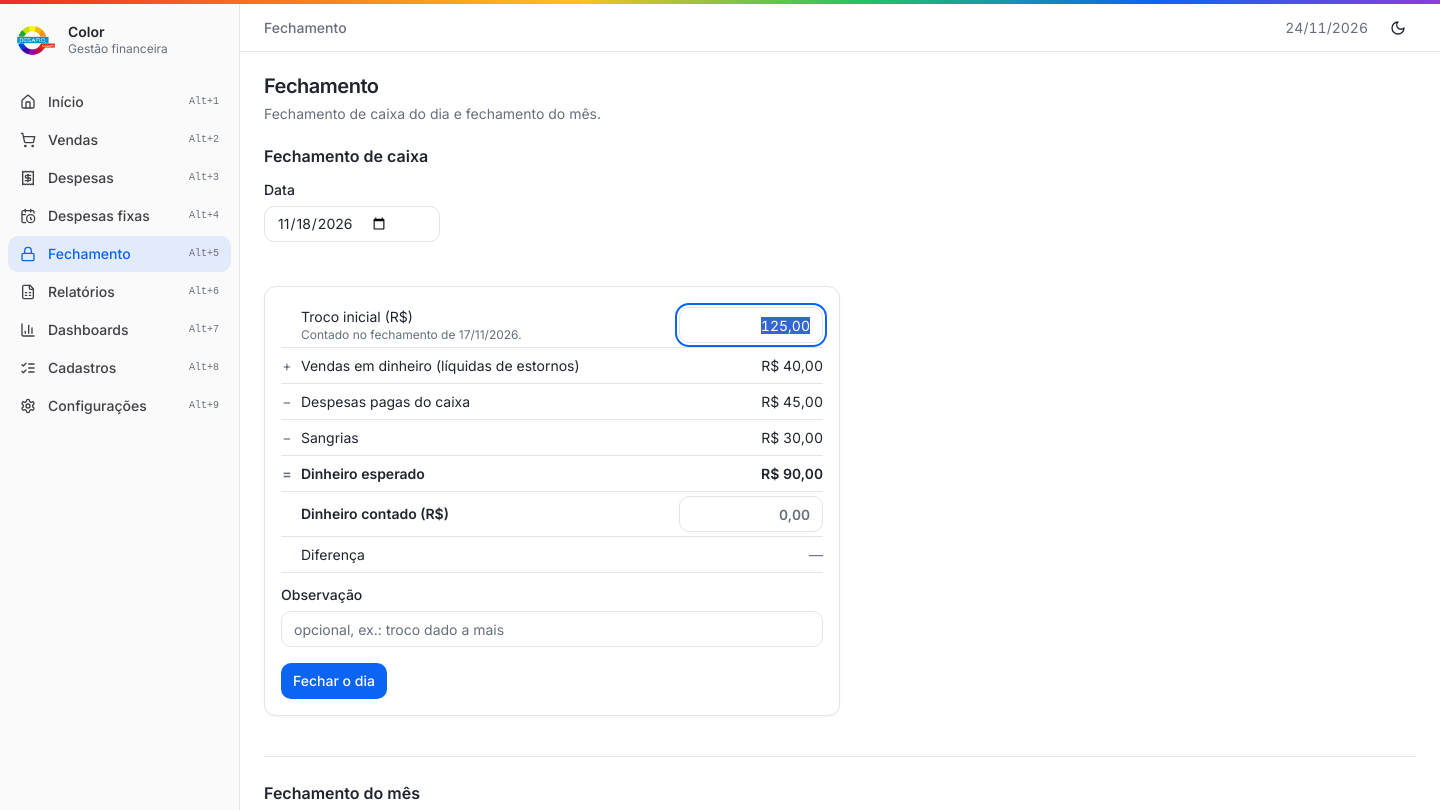
FR-08: close the day (Fechamento page) › FR-08: Esc leaves the confirmation and returns to the counted cash
Expected: the form named "Fechar o dia" is shown, [281,303,823,699]
Type "85,00" into the field labelled "Dinheiro contado (R$)" at point(751, 514), box [679,496,823,532]
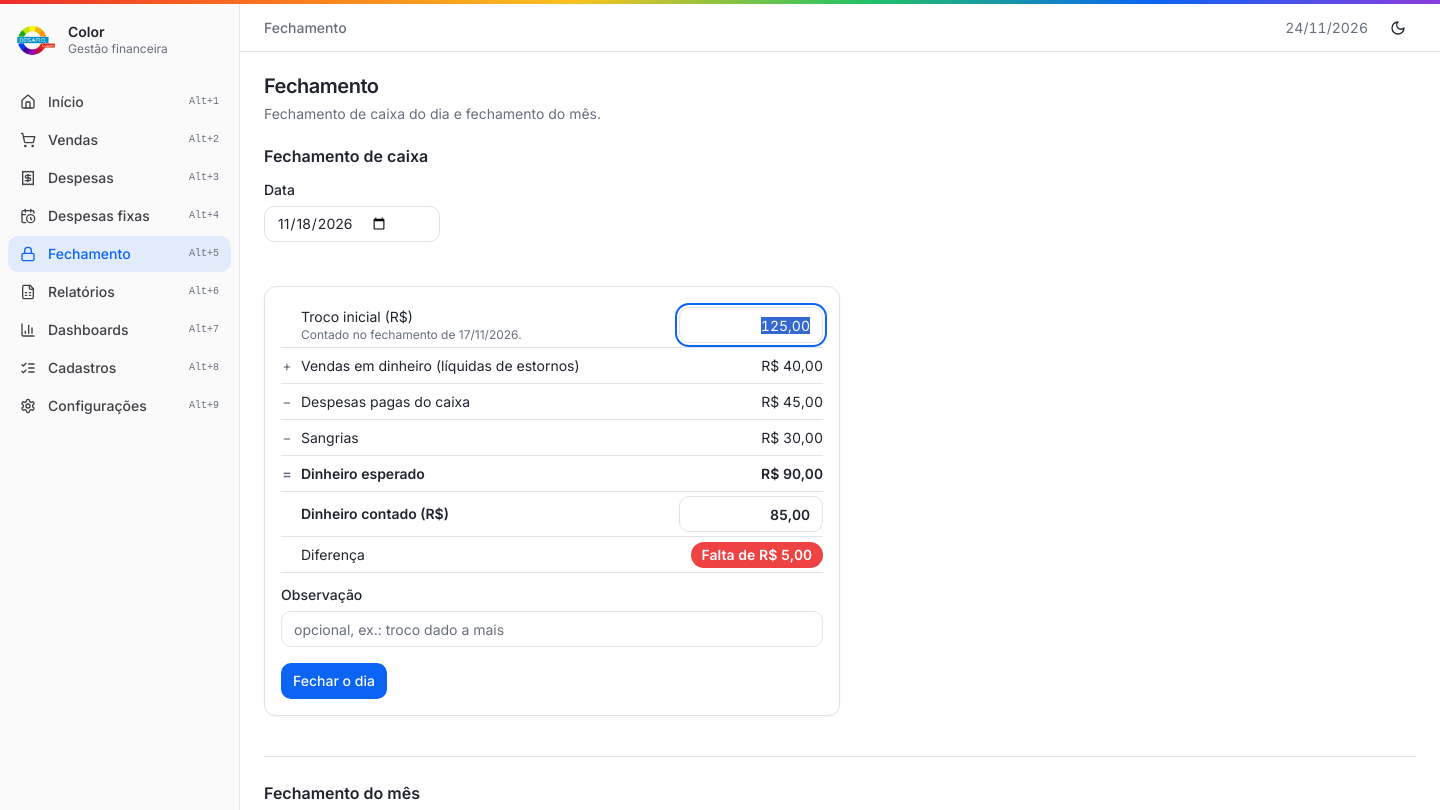
Submit the form named "Fechar o dia", box [281,303,823,699]
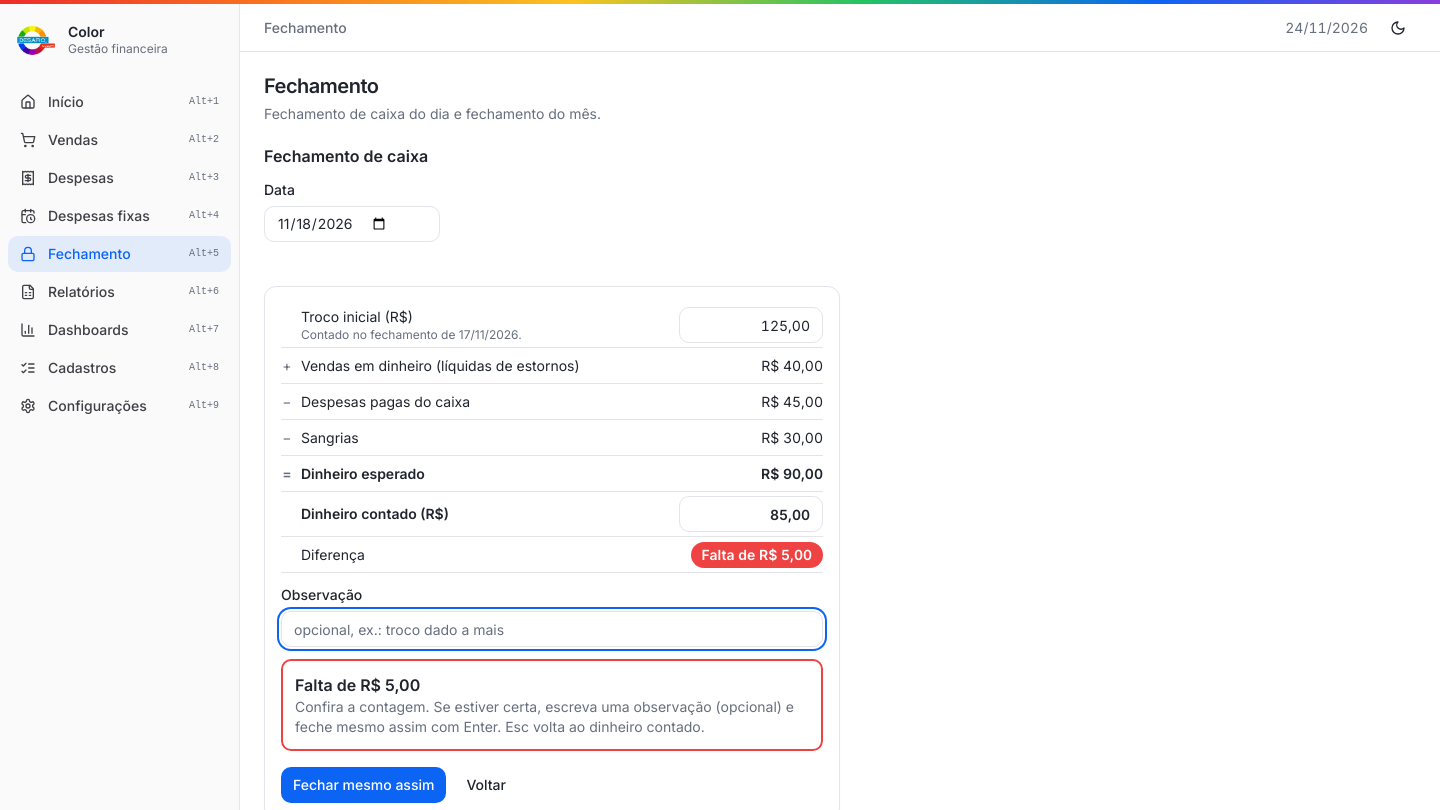
Expected: the button "Fechar mesmo assim" is shown, [281,767,446,803]
Press Escape in the field labelled "Observação", box [281,611,823,647]
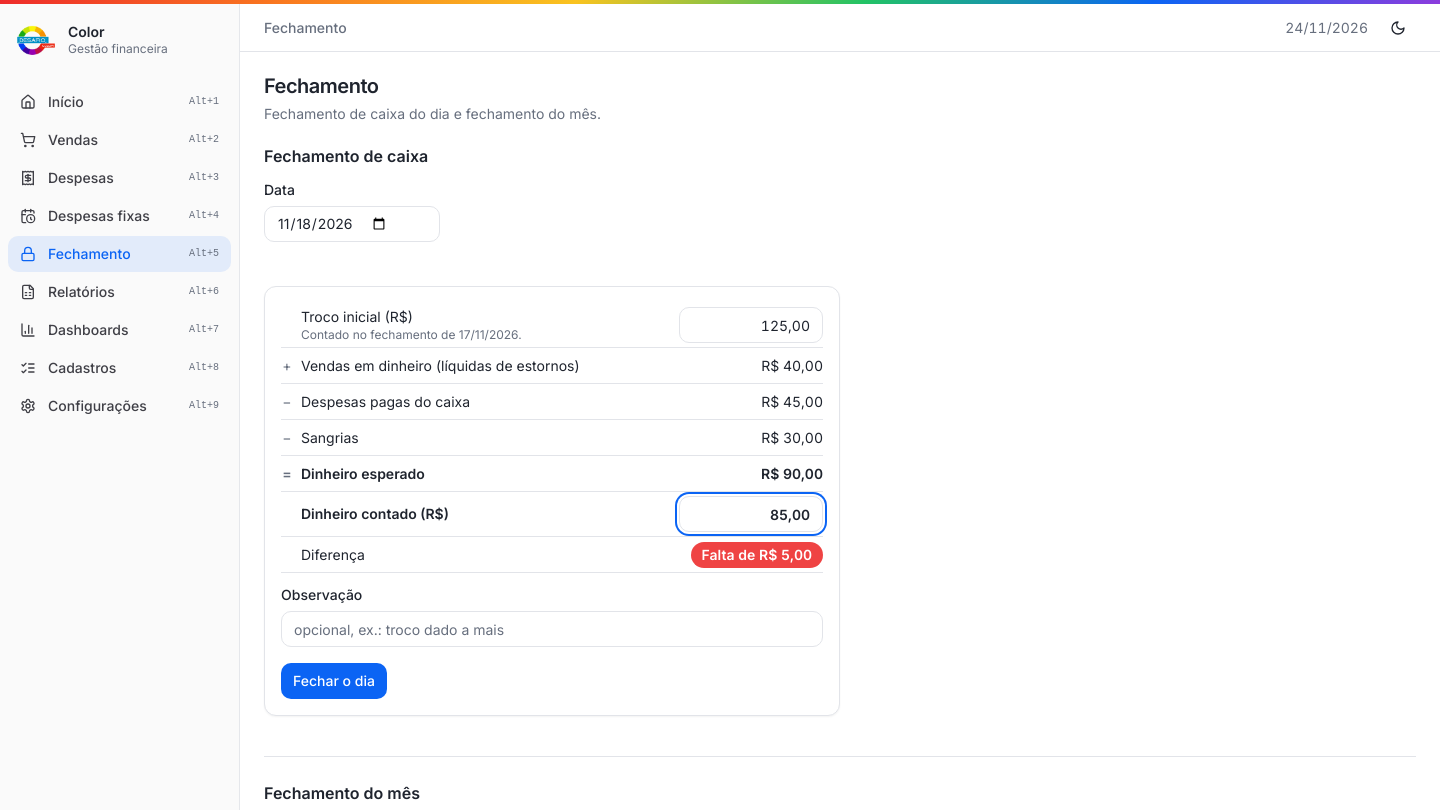
Expected: the button "Fechar mesmo assim" is gone
